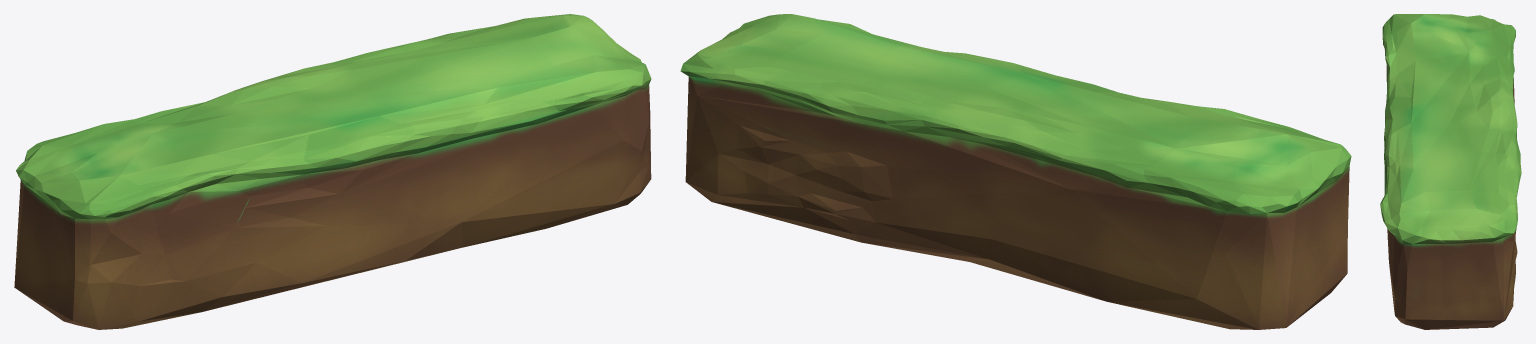
Rendered from spawn block1.fbx.
3 views of the same model, side by side, from view 1: azimuth 30°, elevation 25°; view 2: azimuth 150°, elevation 25°; view 3: azimuth 270°, elevation 25° (orthographic). The views are drawn at different scales.
Parts seen in each view (by area): view 1: spawnblock; view 2: spawnblock; view 3: spawnblock.
Boxes of the visible parts, <box> form: spawnblock: <box>14,14,651,329</box>; spawnblock: <box>680,14,1351,329</box>; spawnblock: <box>1380,14,1521,329</box>.
Size of the model in its own units: 1631 by 404 by 441.
1 material, 1 textured.
